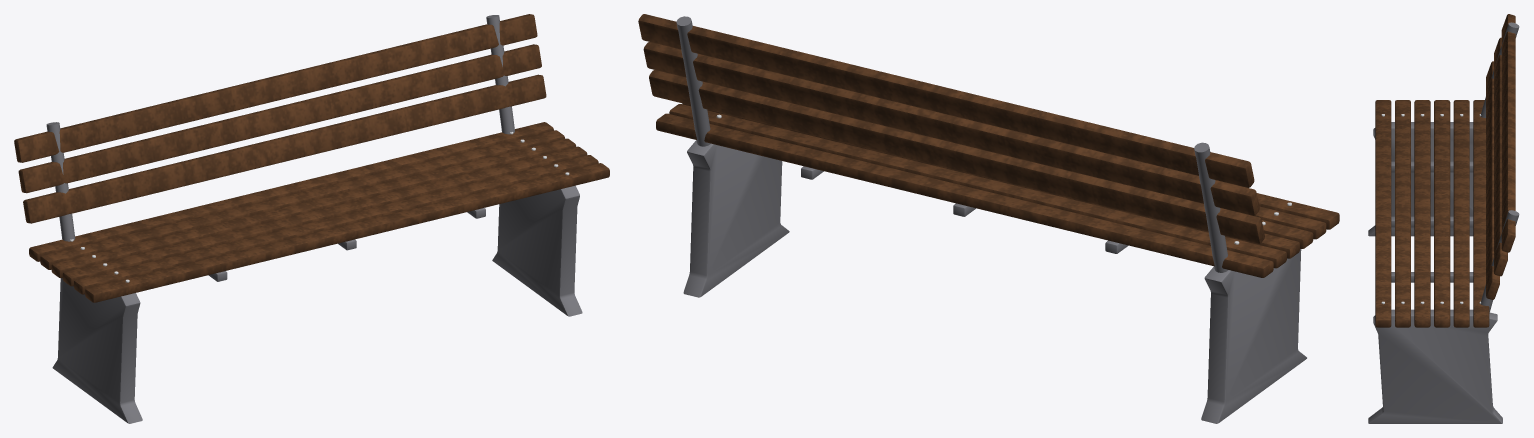
The model's file is Bench.fbx.
3 renders of one model, left to right at view 1: azimuth 30°, elevation 25°; view 2: azimuth 150°, elevation 25°; view 3: azimuth 270°, elevation 25°, orthographic. The views are drawn at different scales.
Parts seen in each view (by area): view 1: Bench; view 2: Bench; view 3: Bench.
Part boxes in pixels (left/top/right/bottom): Bench: left=14, top=14, right=609, bottom=423; Bench: left=638, top=14, right=1339, bottom=423; Bench: left=1368, top=14, right=1519, bottom=423.
Size of the model in its own units: 2 by 0.886 by 0.578.
